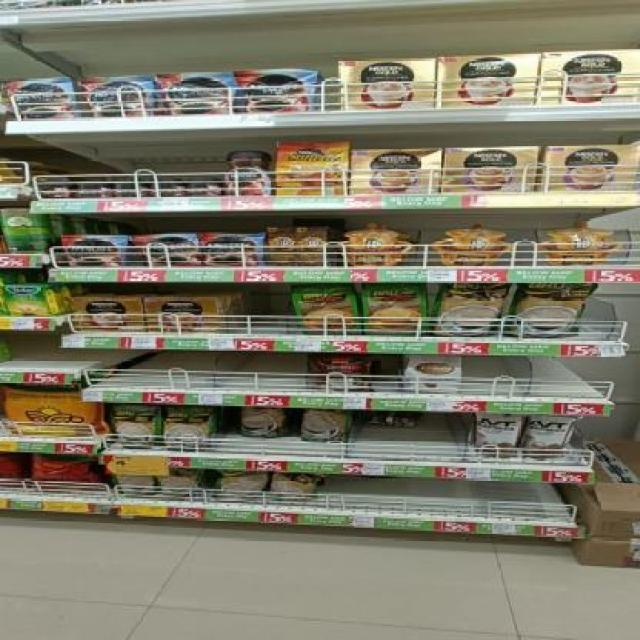Coffee: (276, 143, 347, 198), (242, 72, 313, 113), (165, 74, 236, 115), (85, 79, 148, 116), (11, 80, 70, 118), (225, 151, 272, 196), (139, 235, 196, 269), (64, 236, 122, 267), (204, 234, 258, 266), (72, 179, 110, 198), (34, 180, 68, 198), (115, 180, 148, 198), (186, 178, 218, 196), (151, 179, 181, 196)
